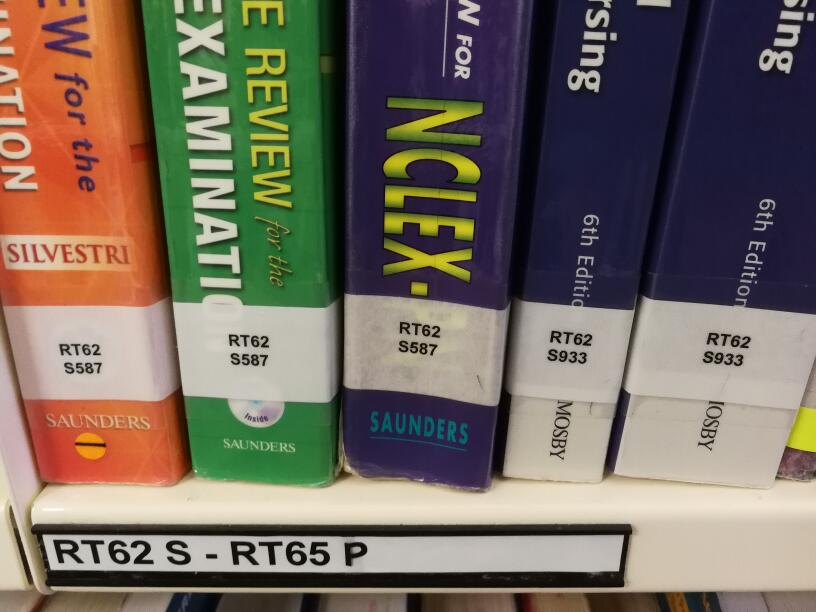booklabel: (700, 329, 754, 370), (545, 328, 595, 369), (395, 319, 443, 358), (56, 341, 105, 378), (225, 331, 271, 368)
